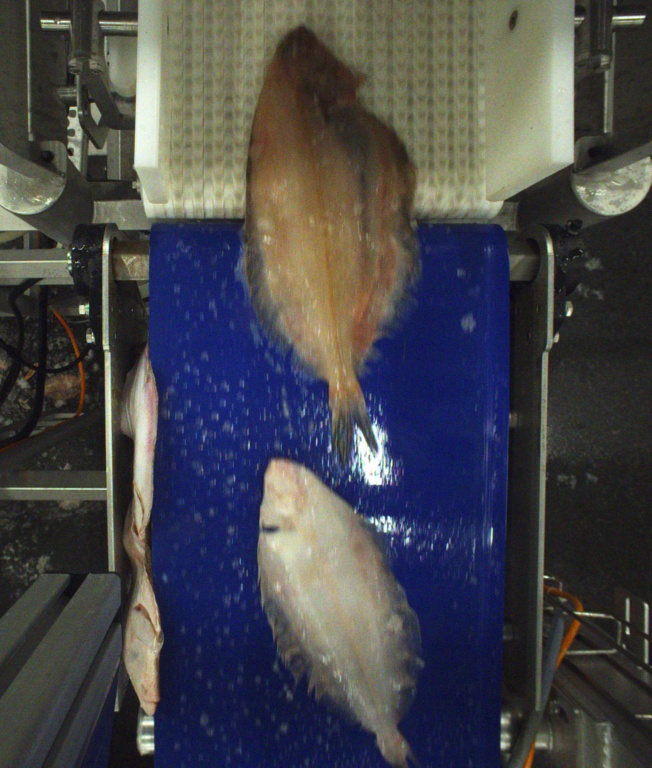WIT: (246, 20, 416, 457)
